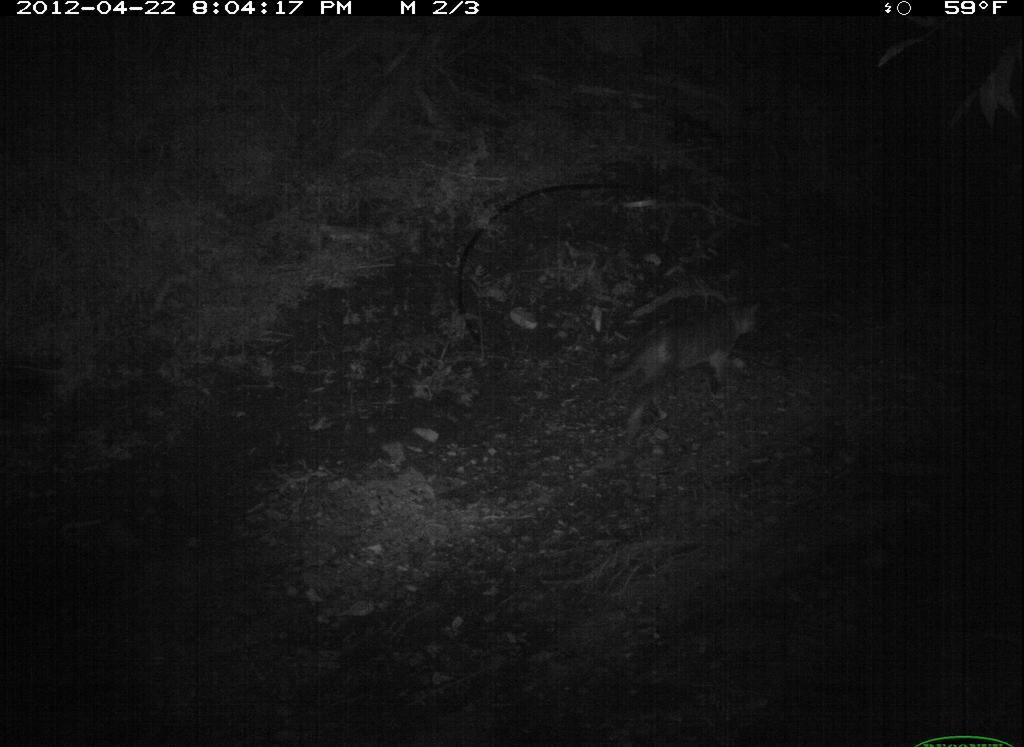cat: (588, 283, 768, 439)
